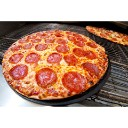pepperonipizza: (3, 29, 107, 101)
